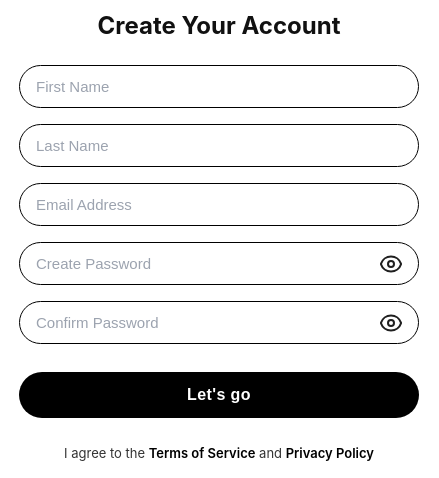
Test case: RegistrationForm › Space prevention in names and email › prevents spaces in first name field
This screenshot has width=439, height=478.
Note: Try to type first name with space
Type "Mary Jane" into the field with placeholder "First Name" at (219, 87), box [19, 65, 419, 108]
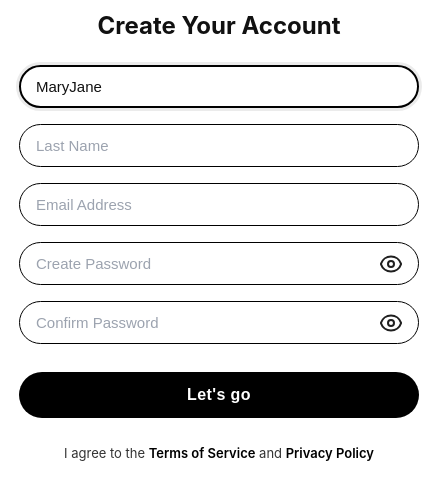
Expected: the field with placeholder "First Name" holds "MaryJane", [19, 65, 419, 108]
